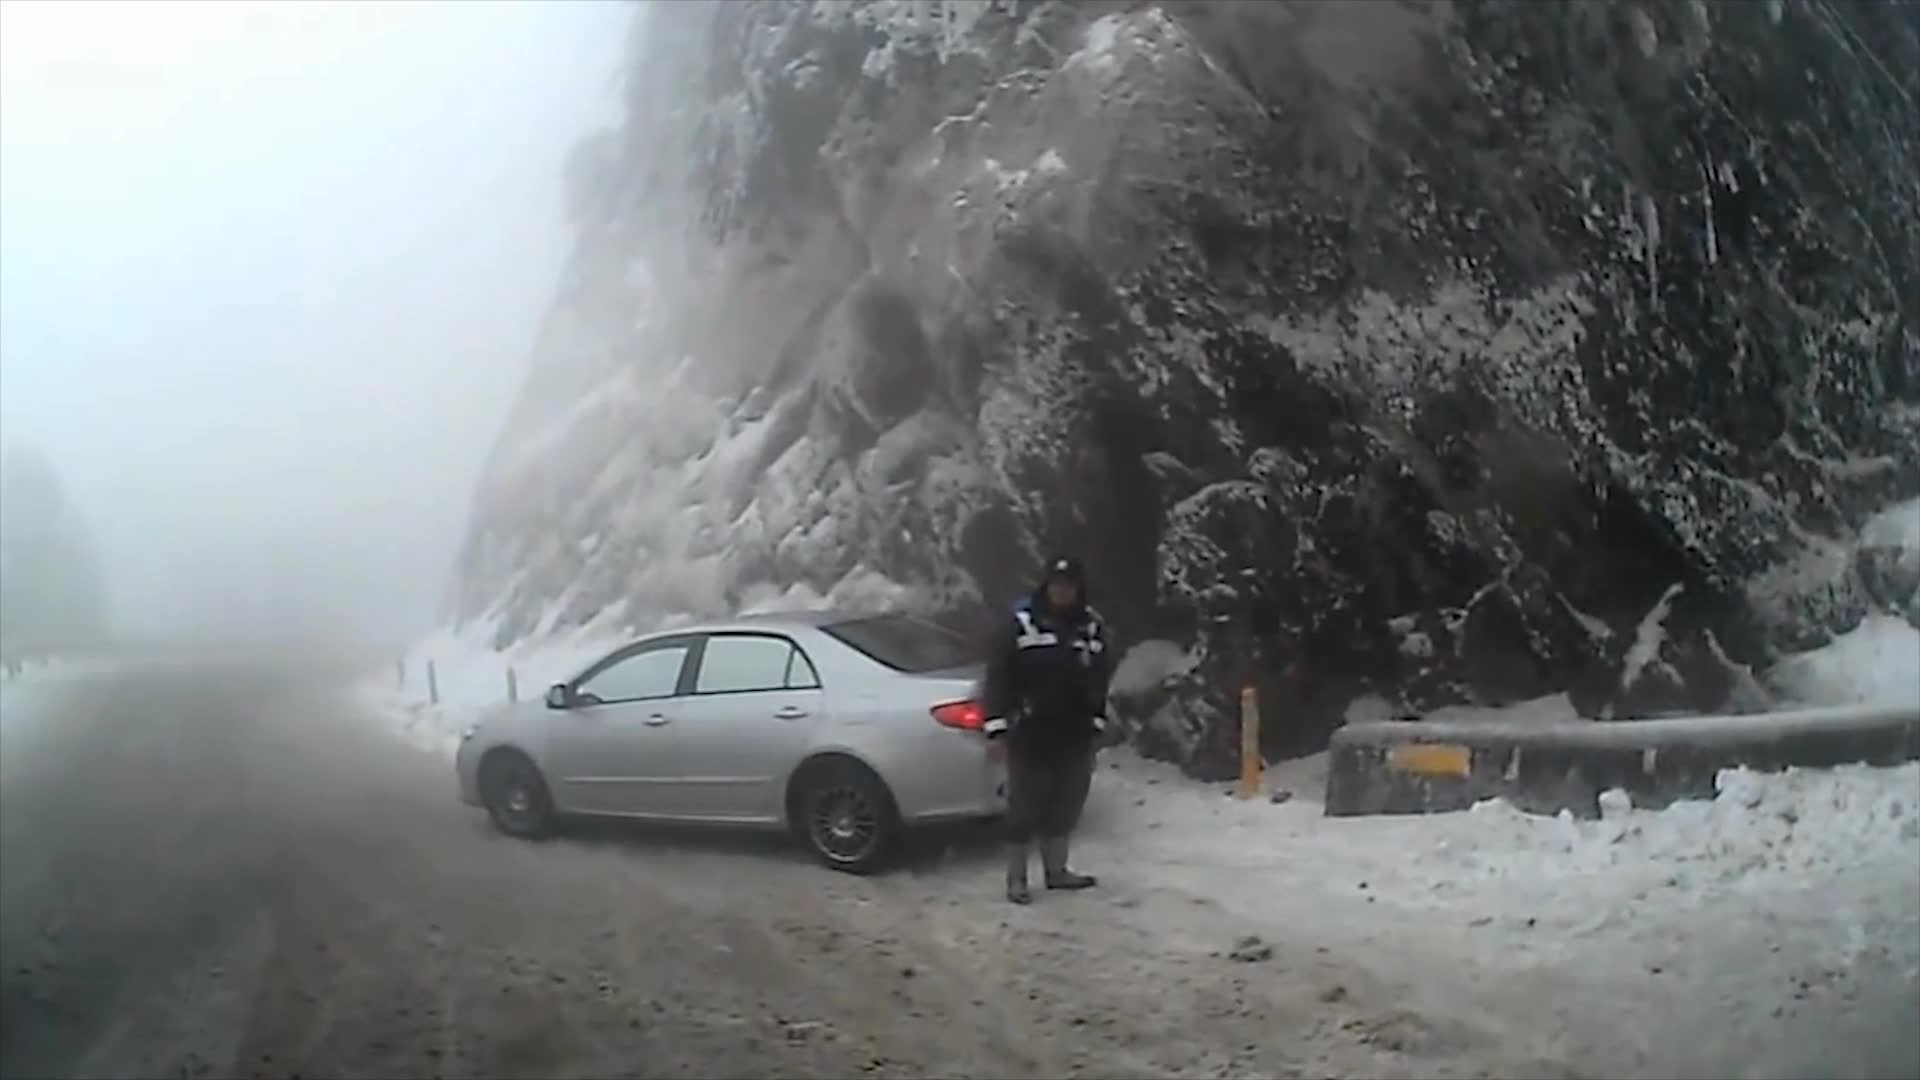pedestrian: (996, 570, 1125, 916)
vehicle: (452, 605, 1093, 872)
